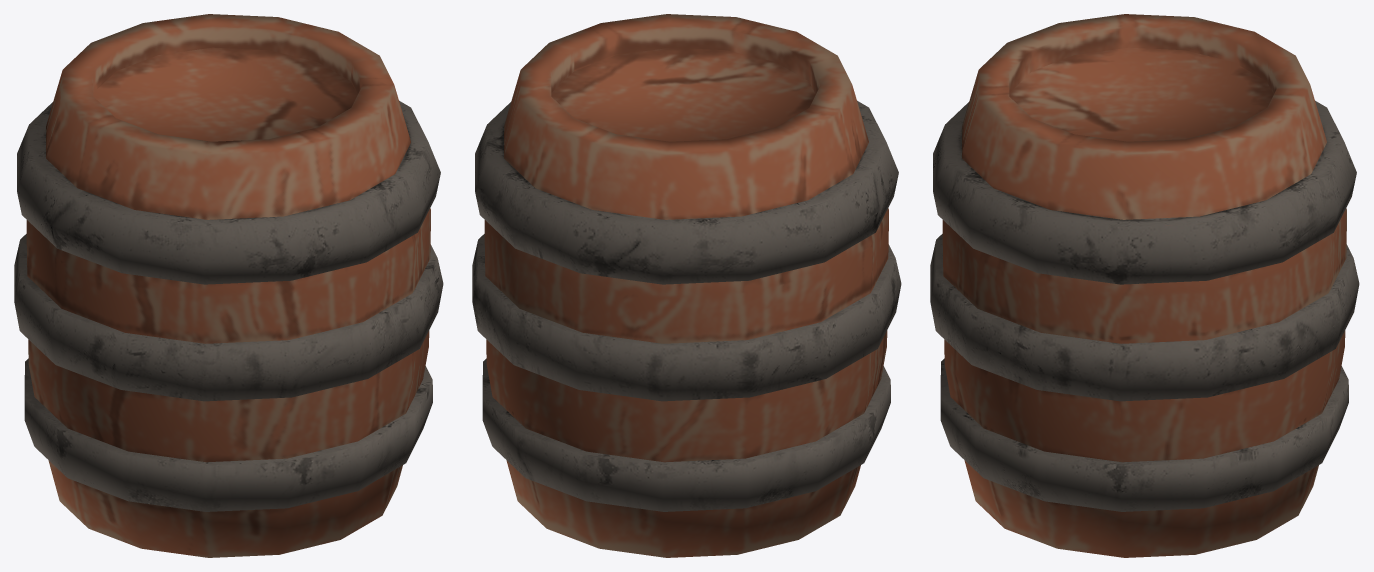
The model's file is barrel.fbx.
The picture shows the model from 3 angles, left to right: view 1: azimuth 30°, elevation 25°; view 2: azimuth 150°, elevation 25°; view 3: azimuth 270°, elevation 25°; orthographic projection.
Visible parts, largest first — view 1: Cylinder.009; view 2: Cylinder.009; view 3: Cylinder.009.
Part boxes in pixels (bbox=[...]): Cylinder.009: bbox=[14, 14, 443, 557]; Cylinder.009: bbox=[472, 14, 901, 557]; Cylinder.009: bbox=[930, 14, 1359, 557].
Size of the model in its own units: 261 by 269 by 260.
Materials: 1 (1 with a texture image).
